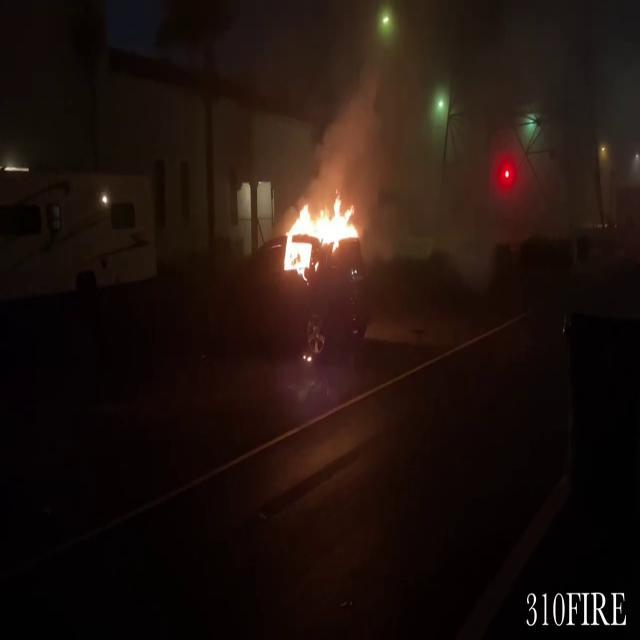Fire: (276, 187, 360, 274)
Smoke: (321, 23, 504, 264)
